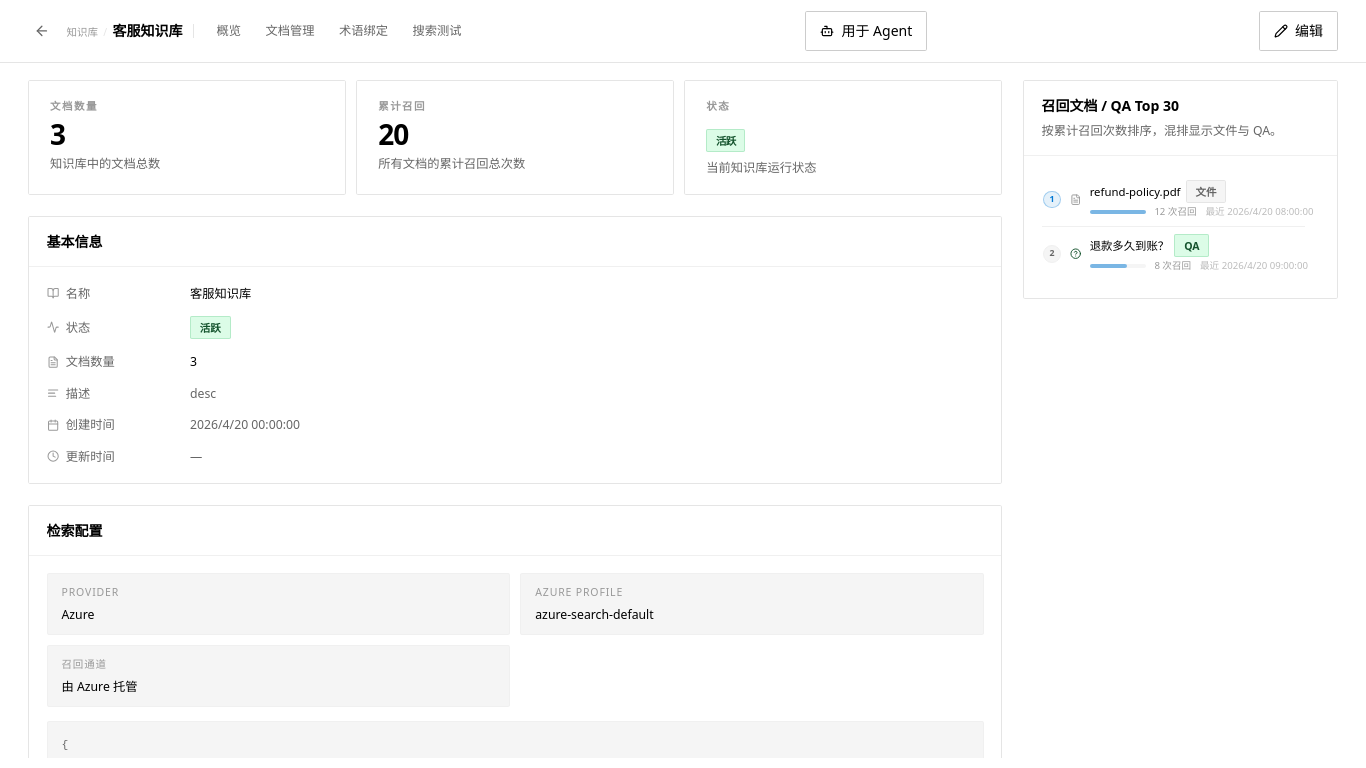
KbOverviewTab › renders edit action in header and opens edit drawer
Step 1. Click the button "编辑" → x=1298, y=31, box [1259, 10, 1338, 51]
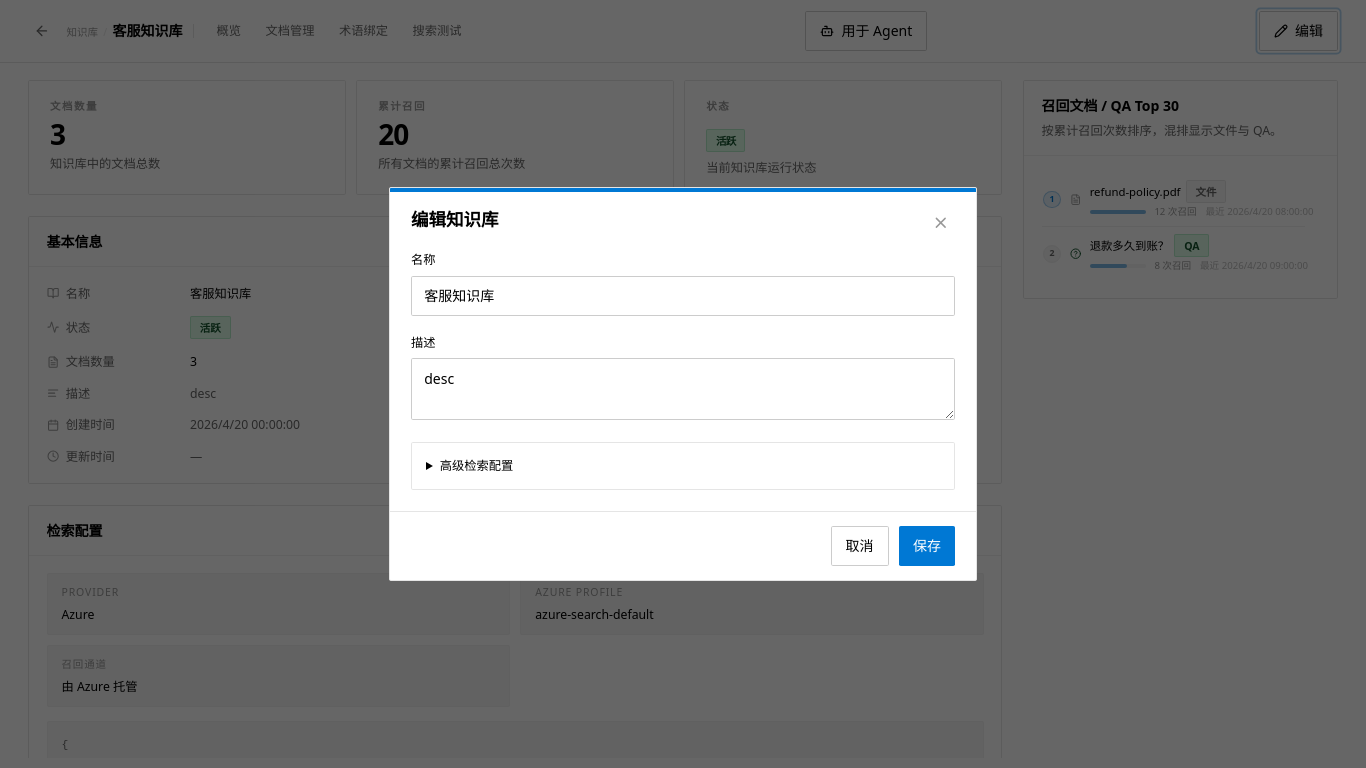
expect the heading "编辑知识库" is shown: met, box [411, 207, 498, 231]
expect the button "保存" is shown: met, box [899, 526, 955, 566]
